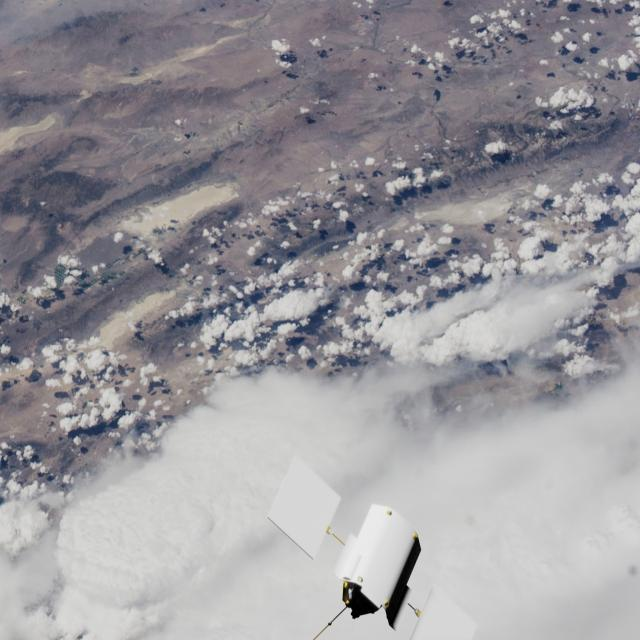satellite: (255, 450, 507, 640)
